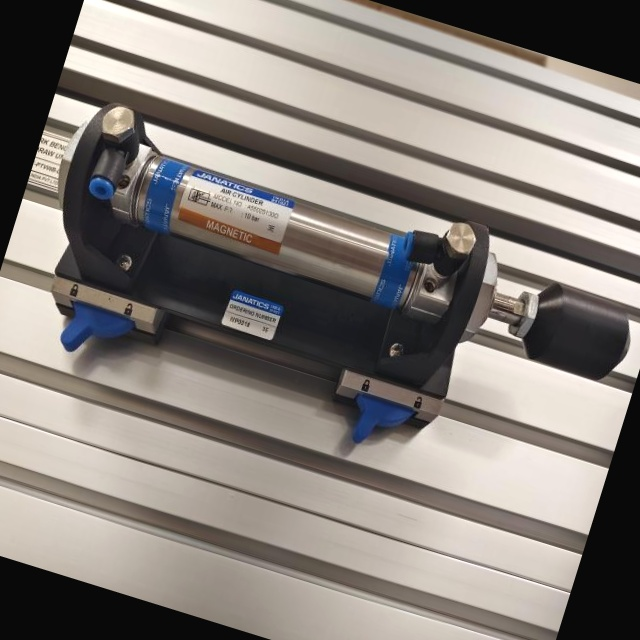double acting pneumatic cylinder: (5, 87, 640, 517)
push button: (7, 89, 640, 512)
